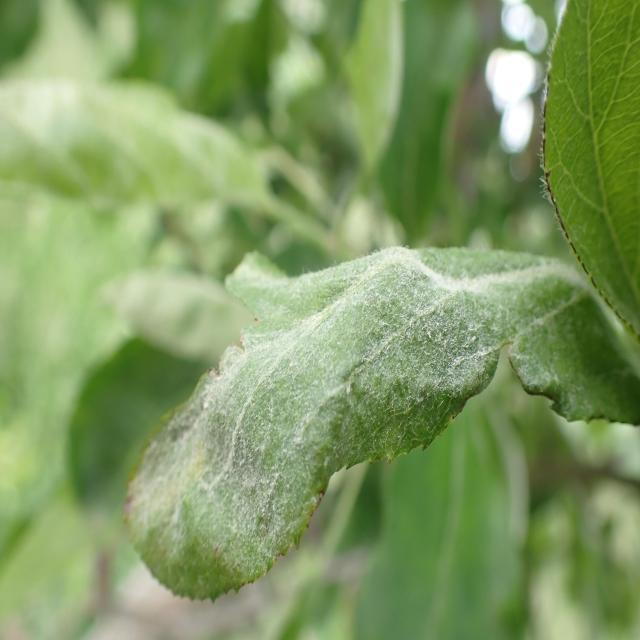Powdery_mildew: (128, 224, 626, 606)
